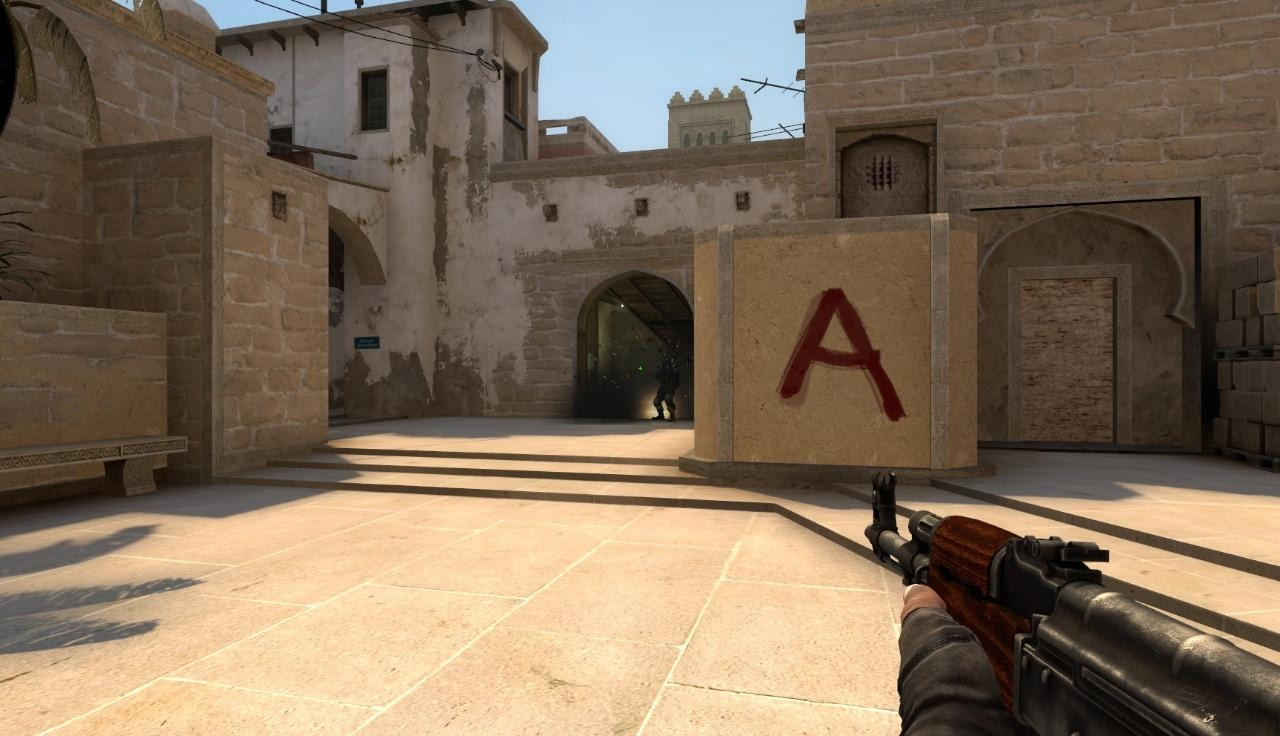ct: (653, 352, 679, 423)
cthead: (661, 352, 670, 364)
rifle: (865, 469, 1280, 736)
